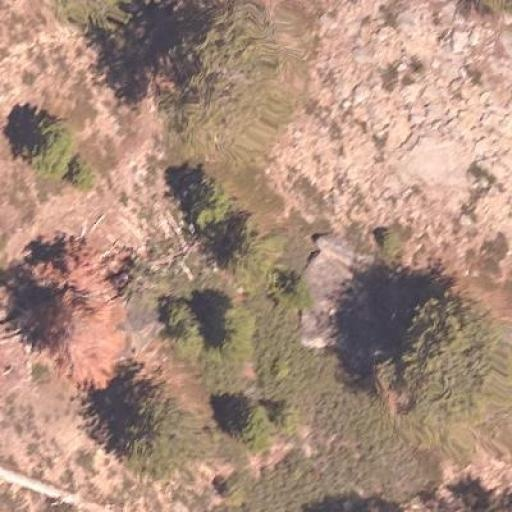tree-top: (372, 280, 506, 444), (153, 7, 274, 138), (90, 362, 198, 479), (9, 106, 79, 182), (207, 384, 283, 454), (212, 209, 280, 279), (198, 302, 260, 362), (176, 172, 230, 234), (152, 293, 204, 349), (59, 0, 121, 29)
